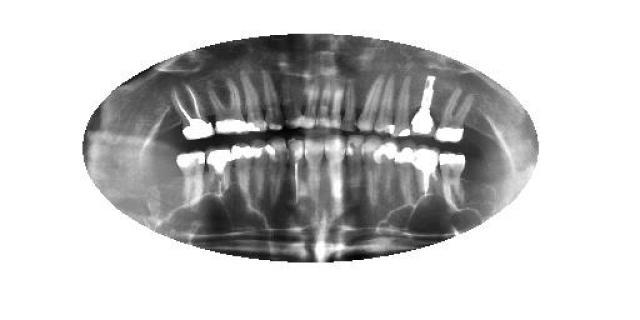Fillings: (206, 80, 248, 135), (434, 90, 474, 144), (176, 149, 208, 209), (438, 150, 468, 212), (239, 75, 269, 135), (374, 143, 398, 205), (234, 141, 256, 205), (210, 148, 232, 206), (394, 148, 414, 206)
Implant: (170, 84, 216, 141), (410, 73, 439, 138), (412, 144, 442, 205)
